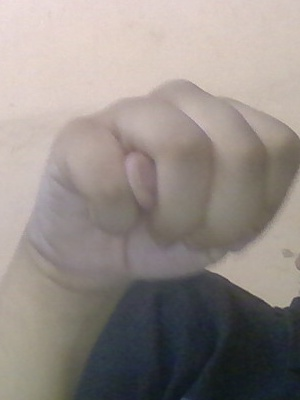M: (23, 62, 294, 323)
